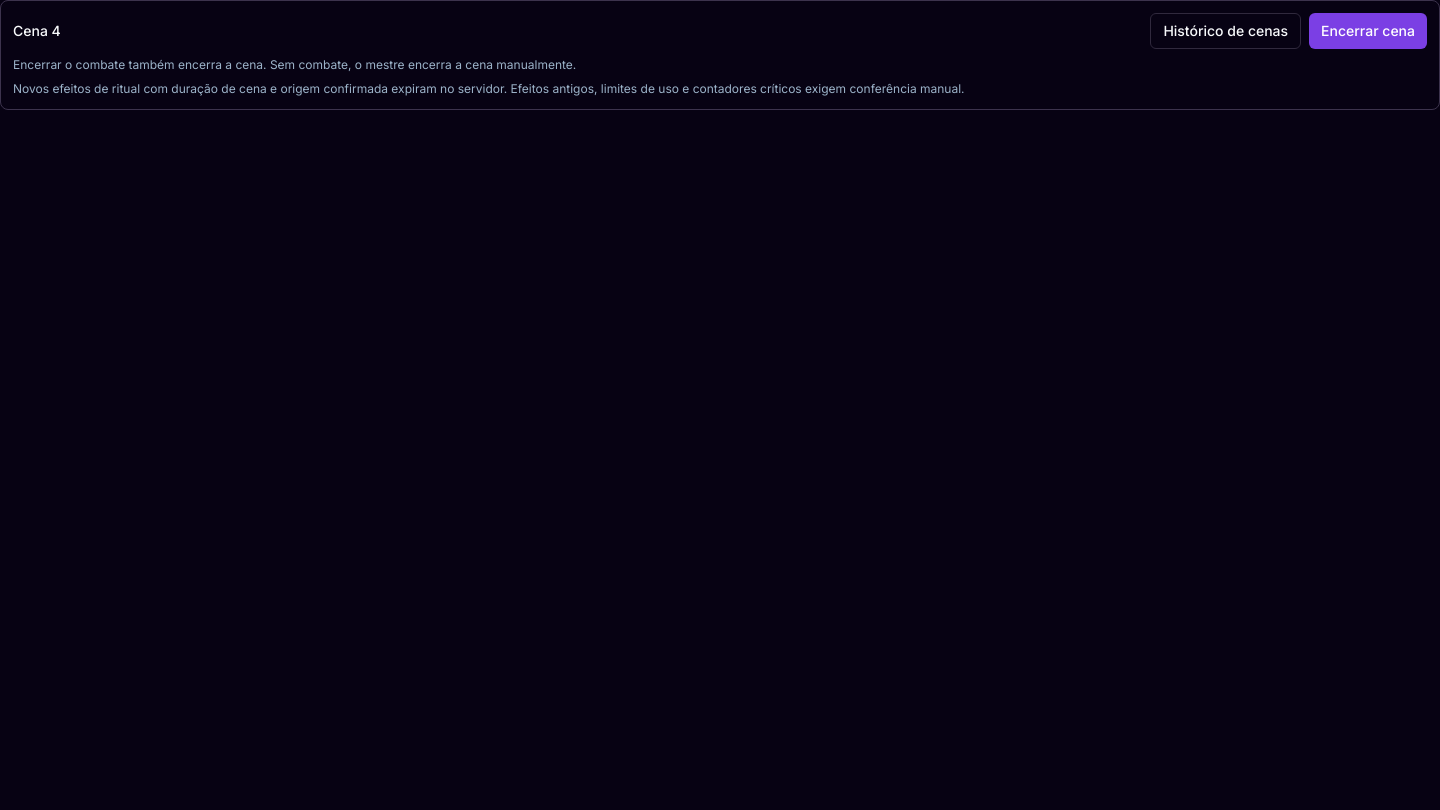
it: Cena, avisos e histórico visíveis › falha de histórico mostra aviso e permite recuperar sem fingir lista vazia
Click the button "Histórico de cenas". click: (1226, 31)
box: x1=1150 y1=13 x2=1301 y2=49
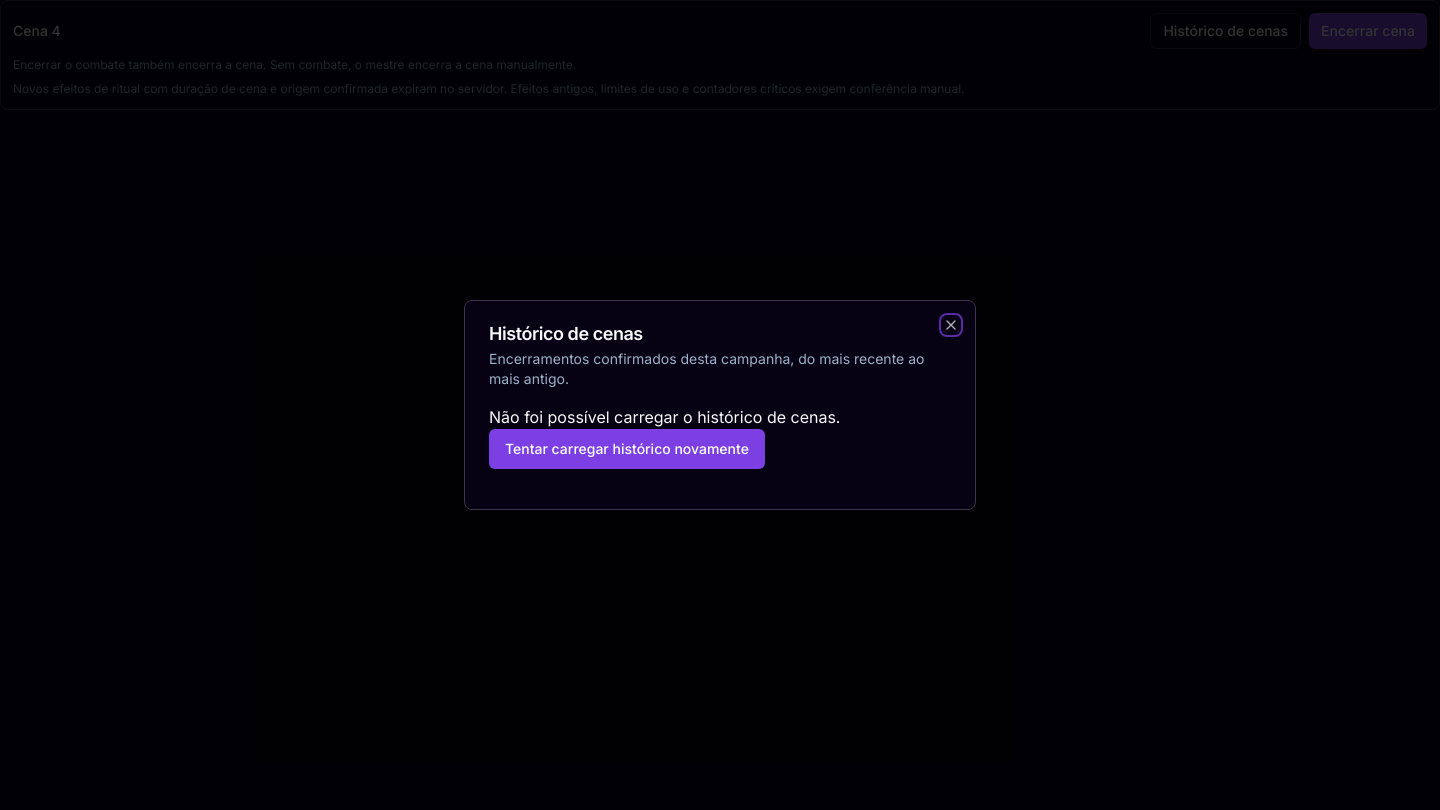
Expected: the text "Nenhuma cena encerrada ainda." is not shown
Expected: the text "Não foi possível carregar o histórico de cenas." is shown, x1=489 y1=407 x2=840 y2=427
Click the button "Tentar carregar histórico novamente". click: (627, 449)
box: x1=489 y1=429 x2=765 y2=469
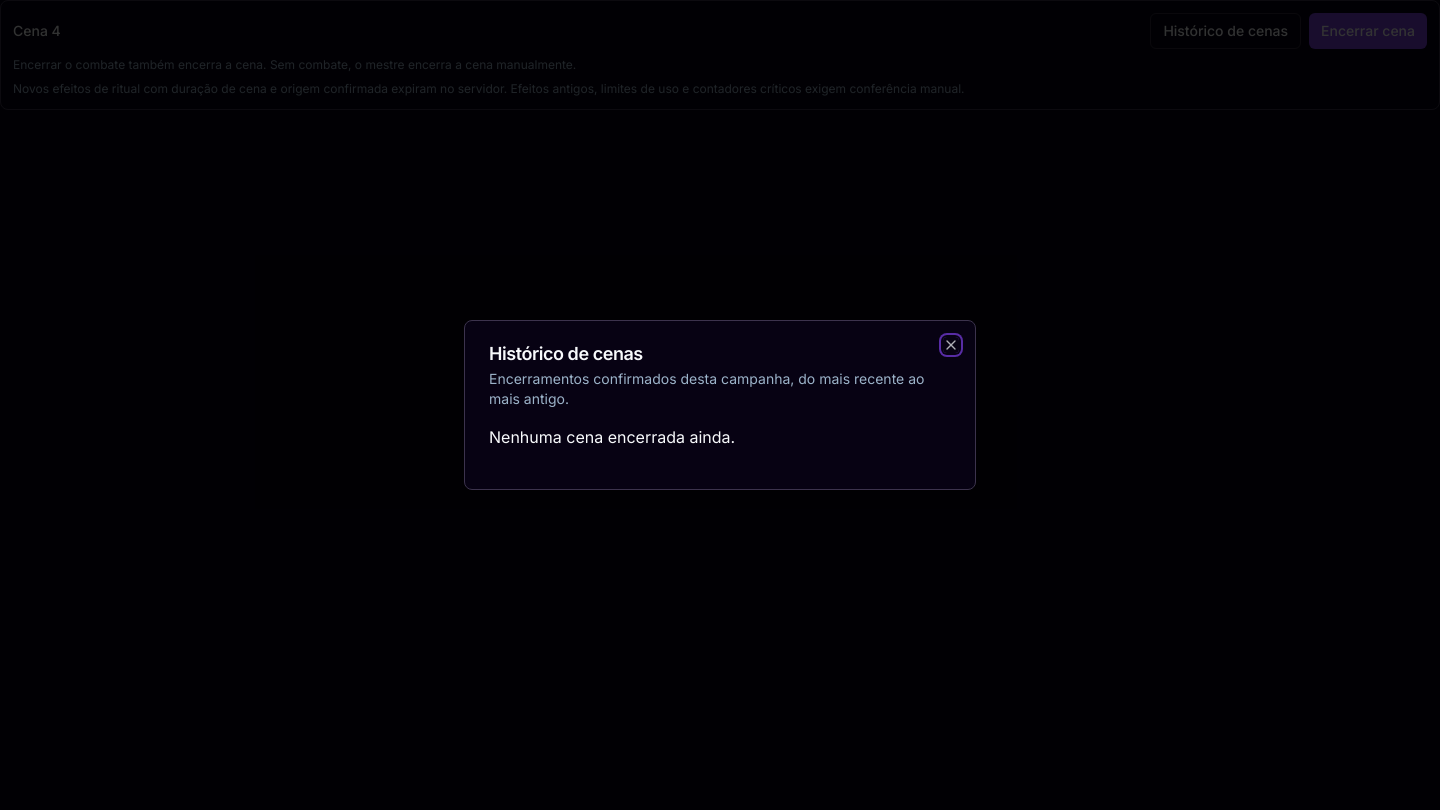
Expected: the text "Nenhuma cena encerrada ainda." is shown, x1=489 y1=427 x2=735 y2=447
